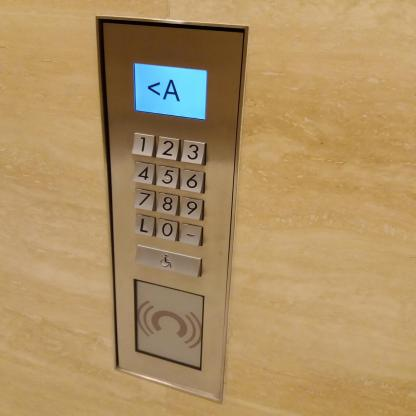-: (179, 222, 202, 246)
0: (155, 218, 178, 242)
1: (132, 132, 154, 157)
2: (156, 136, 180, 160)
3: (180, 140, 205, 164)
4: (132, 160, 154, 186)
5: (154, 166, 179, 188)
6: (179, 169, 204, 192)
7: (133, 189, 155, 211)
8: (157, 192, 178, 216)
9: (179, 196, 203, 221)
CH: (133, 244, 201, 278)
L: (134, 214, 155, 236)
led: (132, 63, 207, 120)
